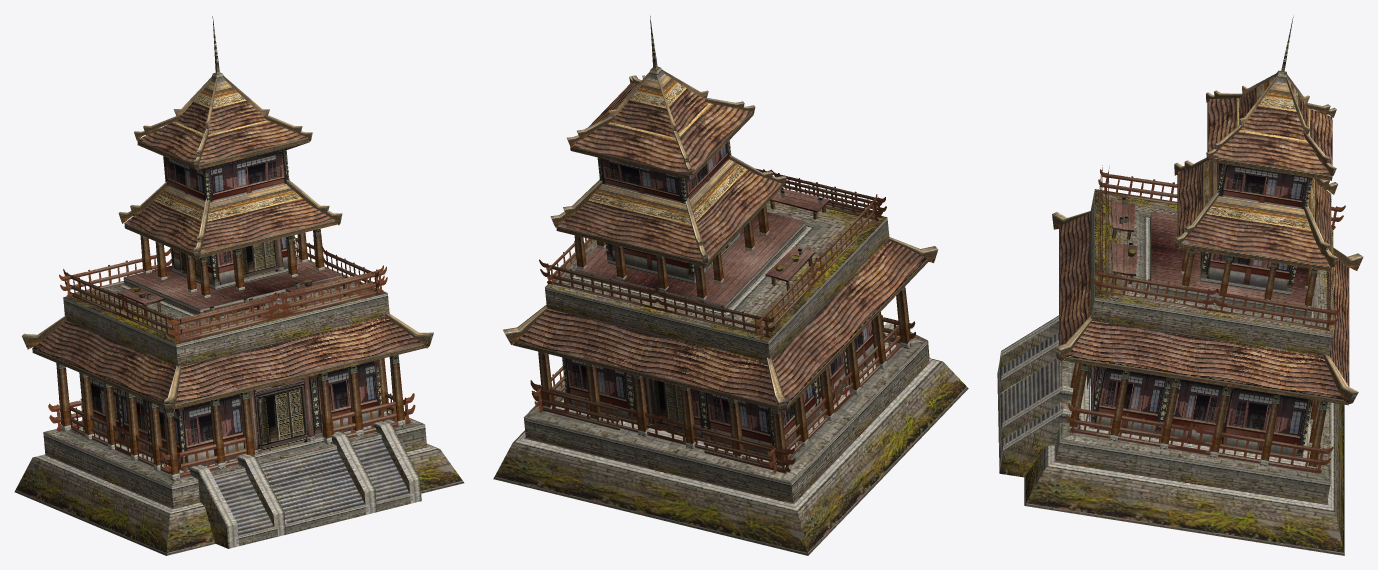
The model's file is china_waterbuilding.fbx.
3 views of the same model, side by side, from view 1: azimuth 30°, elevation 25°; view 2: azimuth 150°, elevation 25°; view 3: azimuth 270°, elevation 25° (orthographic). The views are drawn at different scales.
Visible parts, largest first — view 1: Object01; view 2: Object01; view 3: Object01.
Boxes of the visible parts, bbox=[...] form: Object01: bbox=[14, 16, 464, 555]; Object01: bbox=[493, 16, 968, 555]; Object01: bbox=[997, 17, 1363, 555].
Bounding box in the file's own units: 11.57 × 11.66 × 16.8.
1 material, 1 textured.
